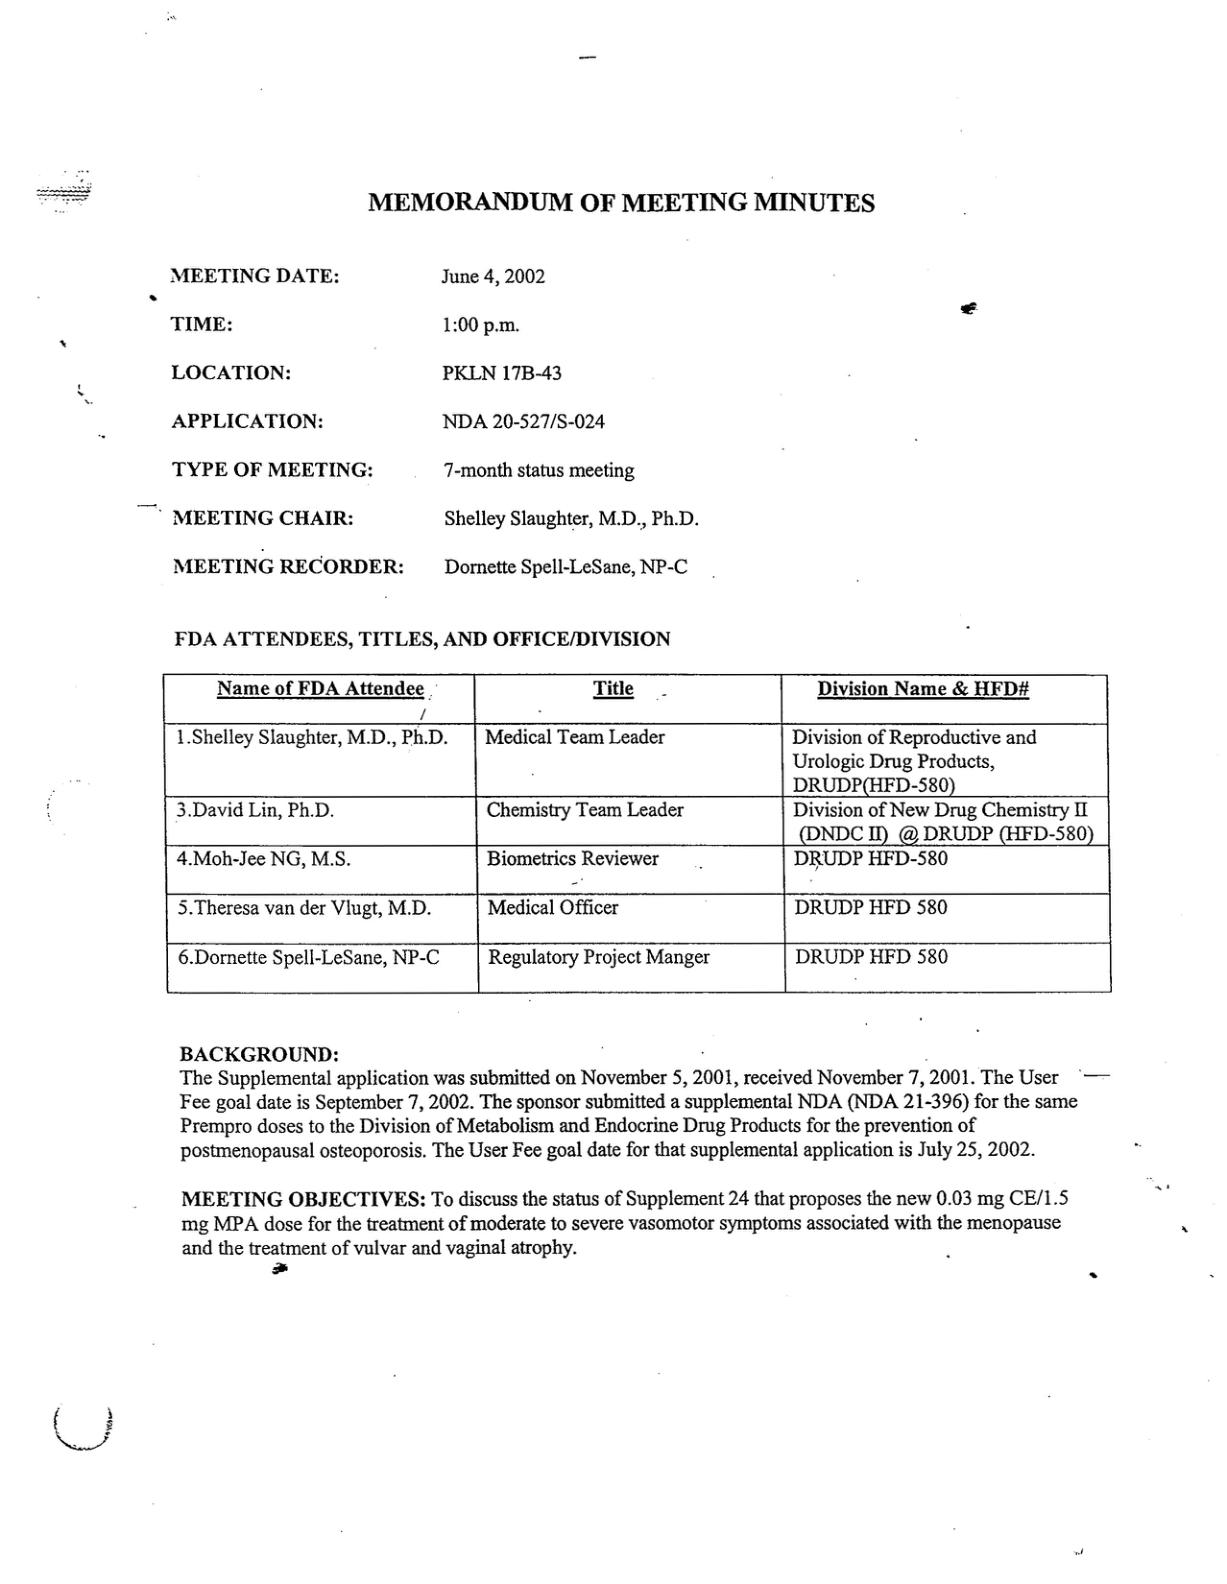full_lined: (162, 672, 1115, 995)
nolines: (167, 262, 704, 580)
